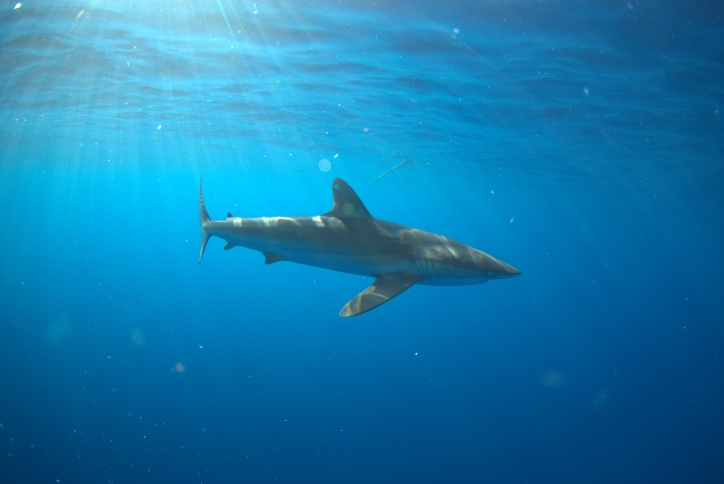Sedoso: (171, 158, 548, 325)
